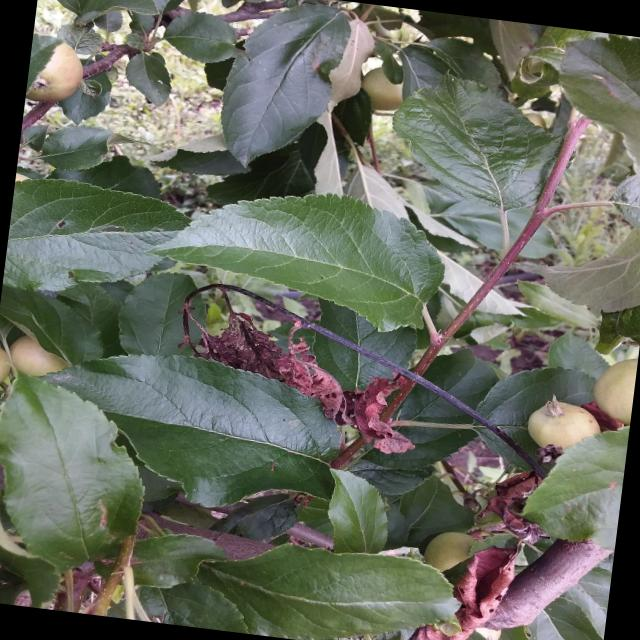-FireBlight-: (184, 283, 409, 468), (415, 473, 551, 640)
